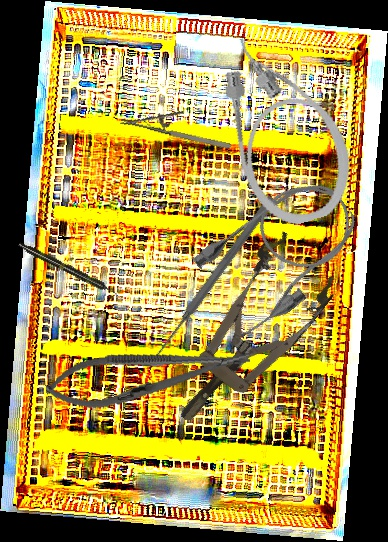Cannula: (184, 163, 377, 345), (205, 18, 365, 236)
Handpiece: (17, 240, 120, 299)
Needle Holder: (42, 333, 254, 417), (119, 96, 237, 153)
Pusher: (151, 193, 278, 360)
Speculum: (148, 226, 347, 445)
